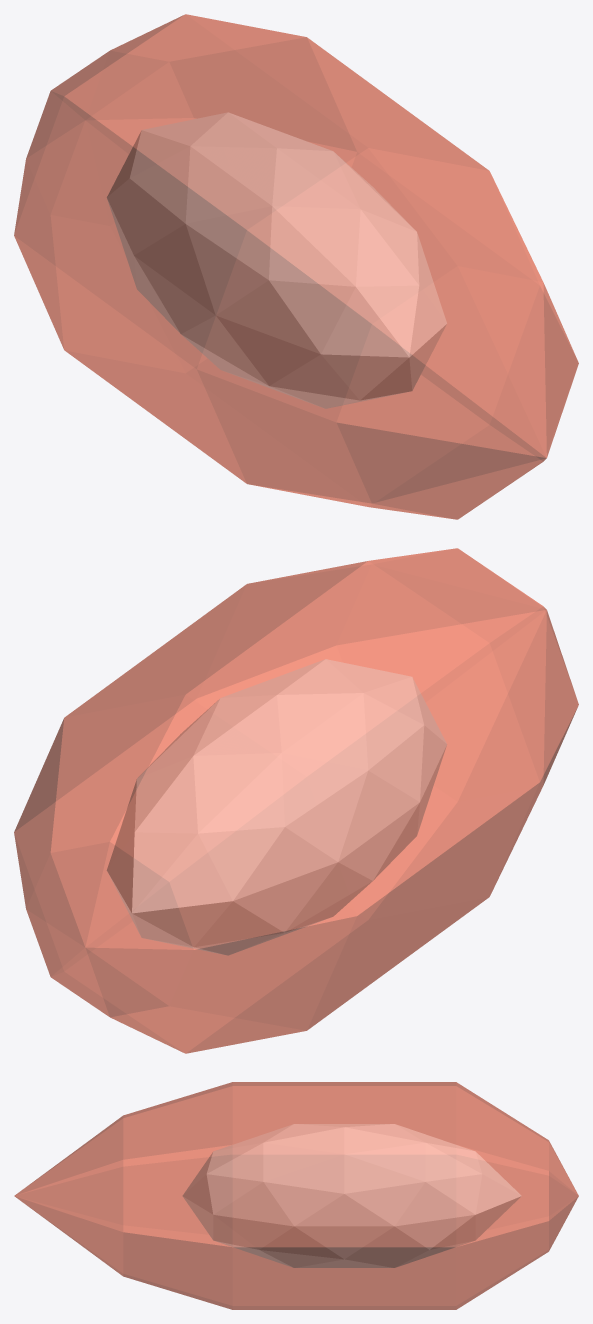
The picture shows the model from 3 angles, top to bottom: view 1: azimuth 30°, elevation 25°; view 2: azimuth 150°, elevation 25°; view 3: azimuth 270°, elevation 25°; orthographic projection. The views are drawn at different scales.
Visible parts, largest first — view 1: Shell, Core; view 2: Shell, Core; view 3: Shell, Core.
Part boxes in pixels (x1,y1,x2,y2): Shell: (14,14,578,519); Core: (107,112,446,408); Shell: (14,548,578,1053); Core: (107,659,446,955); Shell: (14,1082,578,1309); Core: (182,1124,521,1267).
Size of what is drawn, in the model's own units: 0.0918 by 0.2139 by 0.0918.
